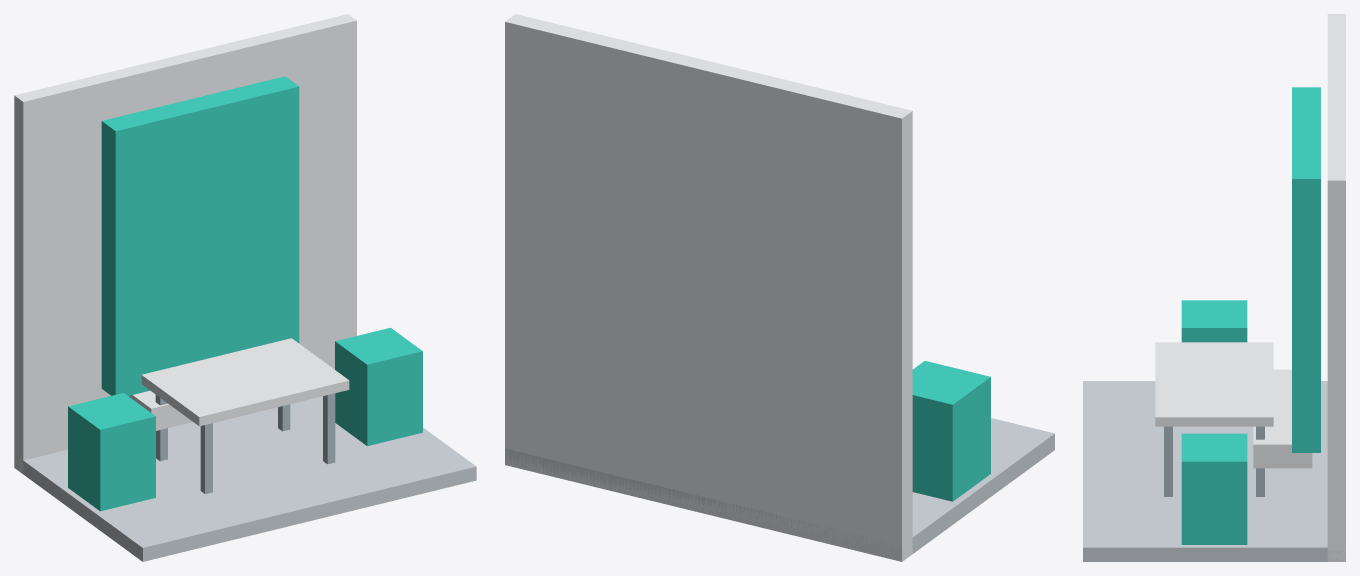
3 renders of one model, left to right at view 1: azimuth 30°, elevation 25°; view 2: azimuth 150°, elevation 25°; view 3: azimuth 270°, elevation 25°, orthographic. The views are drawn at different scales.
Parts seen in each view (by area): view 1: Exhibition Booth Concept; view 2: Exhibition Booth Concept; view 3: Exhibition Booth Concept.
Boxes of the visible parts, x1,y1,x2,y2 form: Exhibition Booth Concept: (14, 14, 476, 561); Exhibition Booth Concept: (505, 14, 1054, 561); Exhibition Booth Concept: (1083, 14, 1345, 561).
Size of the model in its own units: 3 by 3.2 by 2.
